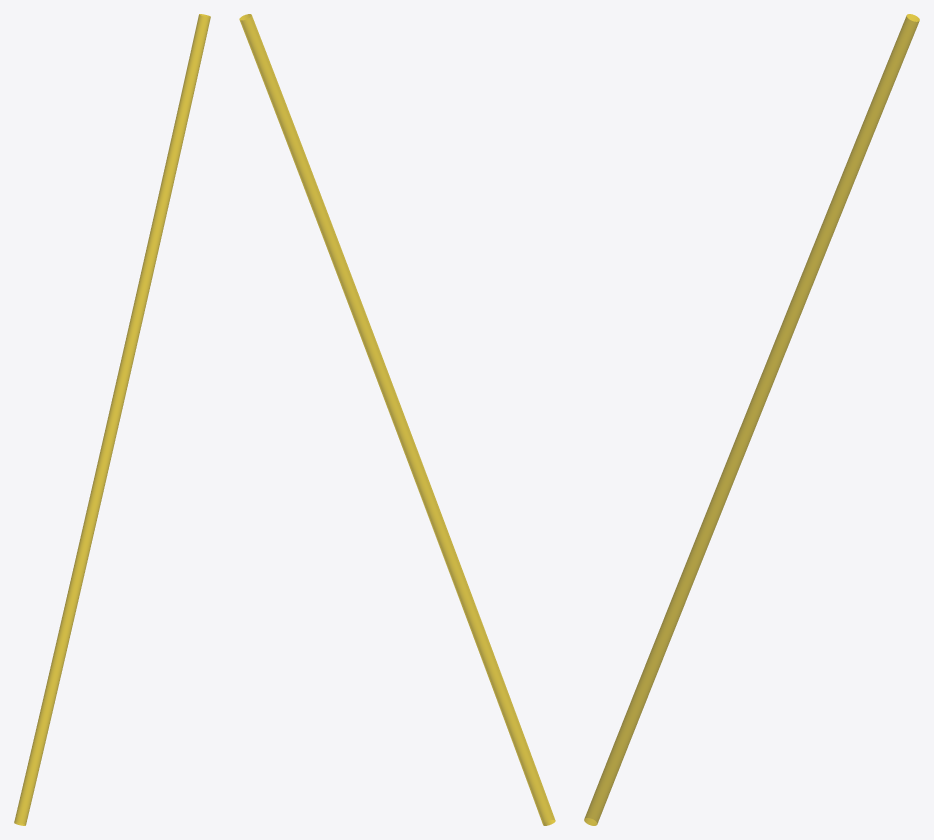
Rendered from Event_100608114_track_20.fbx.
The picture shows the model from 3 angles, left to right: view 1: azimuth 30°, elevation 25°; view 2: azimuth 150°, elevation 25°; view 3: azimuth 330°, elevation 25°; orthographic projection. The views are drawn at different scales.
Visible parts, largest first — view 1: Model; view 2: Model; view 3: Model.
Boxes of the visible parts, box(x1,y1,x2,y2) form: Model: box(14, 14, 210, 825); Model: box(239, 14, 555, 825); Model: box(584, 14, 919, 825).
Bounding box in the file's own units: 0.913 × 2.6 × 0.3468.
